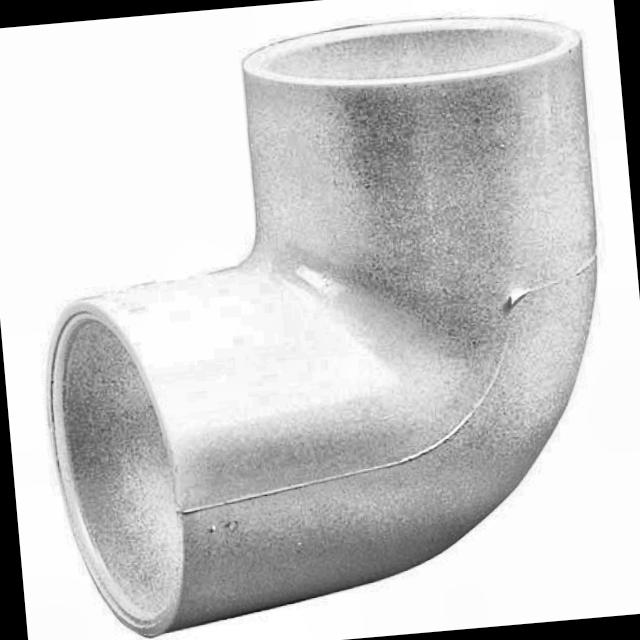ELBOW90: (39, 14, 598, 640)
